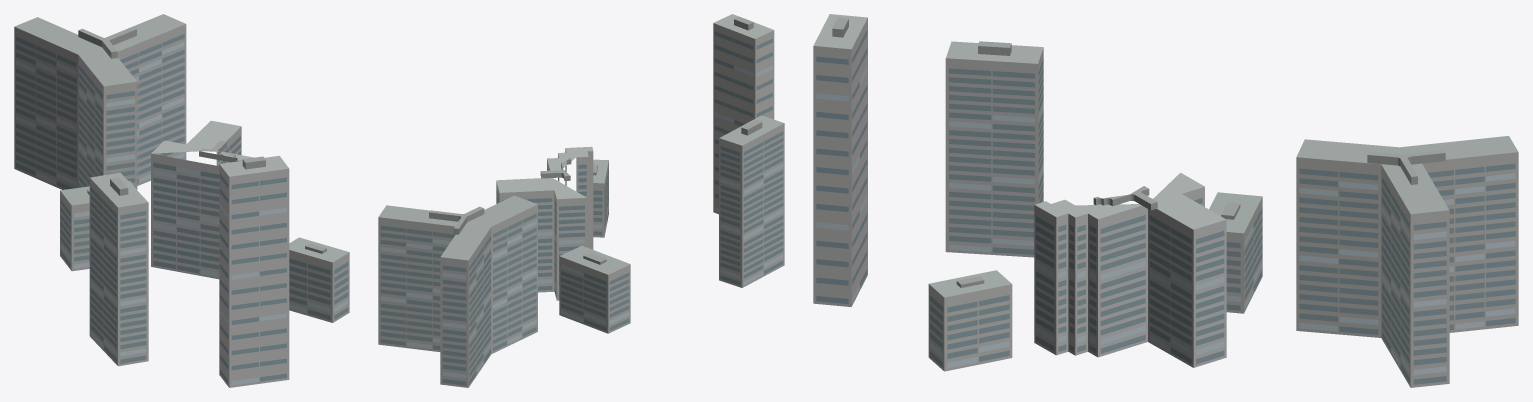
The model's file is apt-a13679402.glb.
3 views of the same model, side by side, from view 1: azimuth 30°, elevation 25°; view 2: azimuth 150°, elevation 25°; view 3: azimuth 270°, elevation 25° (orthographic). The views are drawn at different scales.
Visible parts, largest first — view 1: apt-a13679402; view 2: apt-a13679402; view 3: apt-a13679402.
Boxes of the visible parts, <box> form: apt-a13679402: <box>14,14,349,387</box>; apt-a13679402: <box>378,14,784,387</box>; apt-a13679402: <box>813,14,1518,387</box>.
Bounding box in the file's own units: 97.29 × 79 × 190.
